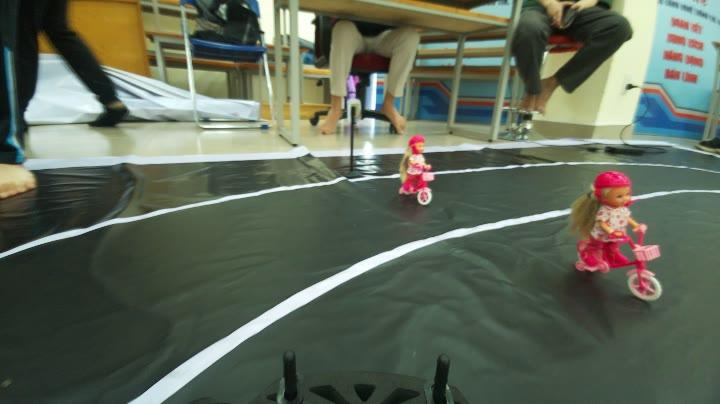pedestrian: (567, 166, 666, 295), (396, 138, 440, 198)
